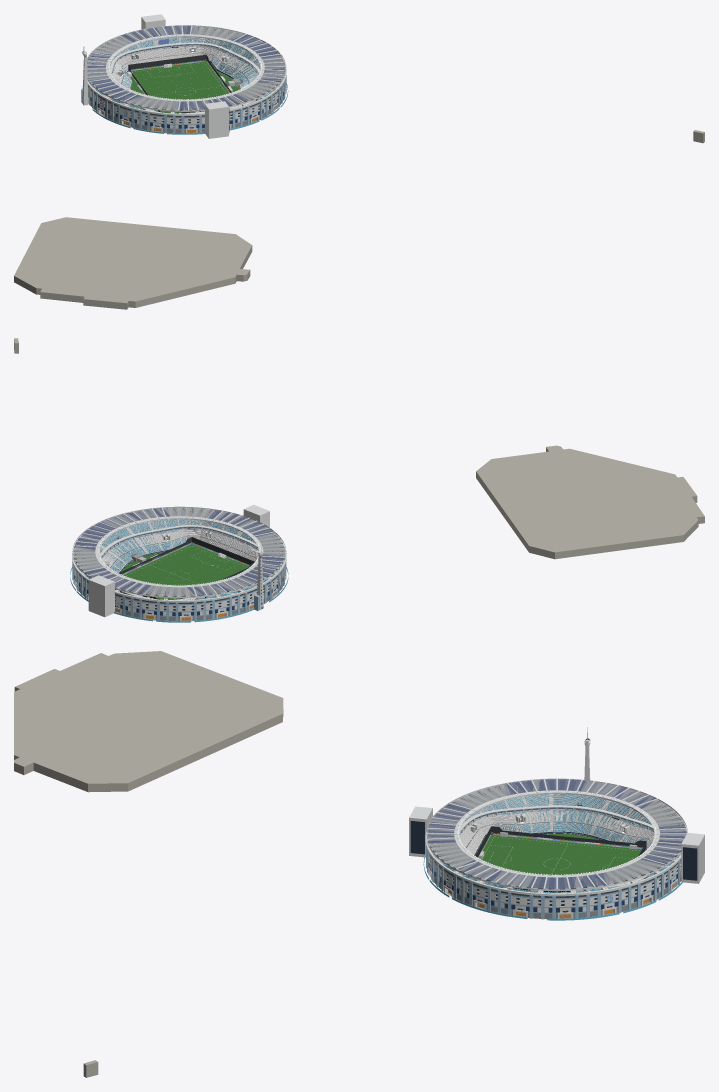
Rendered from RACING_3D.glb.
3 views of the same model, one above another, from view 1: azimuth 30°, elevation 25°; view 2: azimuth 150°, elevation 25°; view 3: azimuth 270°, elevation 25° (orthographic). The views are drawn at different scales.
Visible parts, largest first — view 1: Stadium_Wall.001, Stadium_Continuous_Roof, Stadium_Rear_Structure, Stadium_Continuous_Terraces, Stadium_Roof_Ribs, Stadium_Turf_Stripes, Stadium_Turf_Alternate, Stadium_Seats_Primary, Stadium_Roof_Termination, Stadium_Palcos, Stadium_Stair_Core_W, Stadium_Roof_Visor (+1 smaller); view 2: Stadium_Wall.001, Stadium_Continuous_Roof, Stadium_Rear_Structure, Stadium_Continuous_Terraces, Stadium_Roof_Ribs, Stadium_Seats_Primary, Stadium_Turf_Alternate, Stadium_Turf_Stripes, Stadium_Stair_Core_E, Stadium_Roof_Termination, Stadium_Palcos, Stadium_Roof_Visor (+2 smaller); view 3: Stadium_Wall.001, Stadium_Continuous_Roof, Stadium_Rear_Structure, Stadium_Continuous_Terraces, Stadium_Roof_Ribs, Stadium_Seats_Primary, Stadium_Turf_Alternate, Stadium_Turf_Stripes, Stadium_Roof_Termination, Stadium_Palcos, Stadium_Roof_Visor, Stadium_Pitch_Fence (+2 smaller).
Part boxes in pixels (<box>): Stadium_Wall.001: <box>14,217,252,309</box>; Stadium_Continuous_Roof: <box>87,25,285,110</box>; Stadium_Rear_Structure: <box>87,37,286,133</box>; Stadium_Continuous_Terraces: <box>88,37,284,107</box>; Stadium_Roof_Ribs: <box>87,25,286,110</box>; Stadium_Turf_Stripes: <box>130,62,240,112</box>; Stadium_Turf_Alternate: <box>130,61,240,113</box>; Stadium_Seats_Primary: <box>89,37,284,110</box>; Stadium_Roof_Termination: <box>87,25,286,132</box>; Stadium_Palcos: <box>110,42,259,113</box>; Stadium_Stair_Core_W: <box>205,101,228,138</box>; Stadium_Roof_Visor: <box>87,26,285,110</box>; Stadium_Wall.001: <box>476,445,704,559</box>; Stadium_Continuous_Roof: <box>73,507,285,596</box>; Stadium_Rear_Structure: <box>72,519,286,621</box>; Stadium_Continuous_Terraces: <box>74,519,282,597</box>; Stadium_Roof_Ribs: <box>73,507,284,596</box>; Stadium_Seats_Primary: <box>73,519,284,599</box>; Stadium_Turf_Alternate: <box>124,544,248,599</box>; Stadium_Turf_Stripes: <box>122,544,248,599</box>; Stadium_Stair_Core_E: <box>88,575,114,617</box>; Stadium_Roof_Termination: <box>72,506,286,619</box>; Stadium_Palcos: <box>100,525,258,600</box>; Stadium_Roof_Visor: <box>73,508,285,596</box>; Stadium_Wall.001: <box>14,651,283,792</box>; Stadium_Continuous_Roof: <box>427,779,686,888</box>; Stadium_Rear_Structure: <box>425,794,687,919</box>; Stadium_Continuous_Terraces: <box>428,794,681,893</box>; Stadium_Roof_Ribs: <box>426,778,687,889</box>; Stadium_Seats_Primary: <box>427,794,680,893</box>; Stadium_Turf_Alternate: <box>481,833,645,874</box>; Stadium_Turf_Stripes: <box>483,833,641,874</box>; Stadium_Roof_Termination: <box>426,778,687,917</box>; Stadium_Palcos: <box>459,805,654,891</box>; Stadium_Roof_Visor: <box>427,781,686,889</box>; Stadium_Pitch_Fence: <box>475,826,646,857</box>.
Bounding box in the file's own units: 686 × 65.9 × 479.
